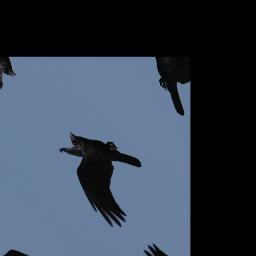Crow: (45, 107, 160, 235)
